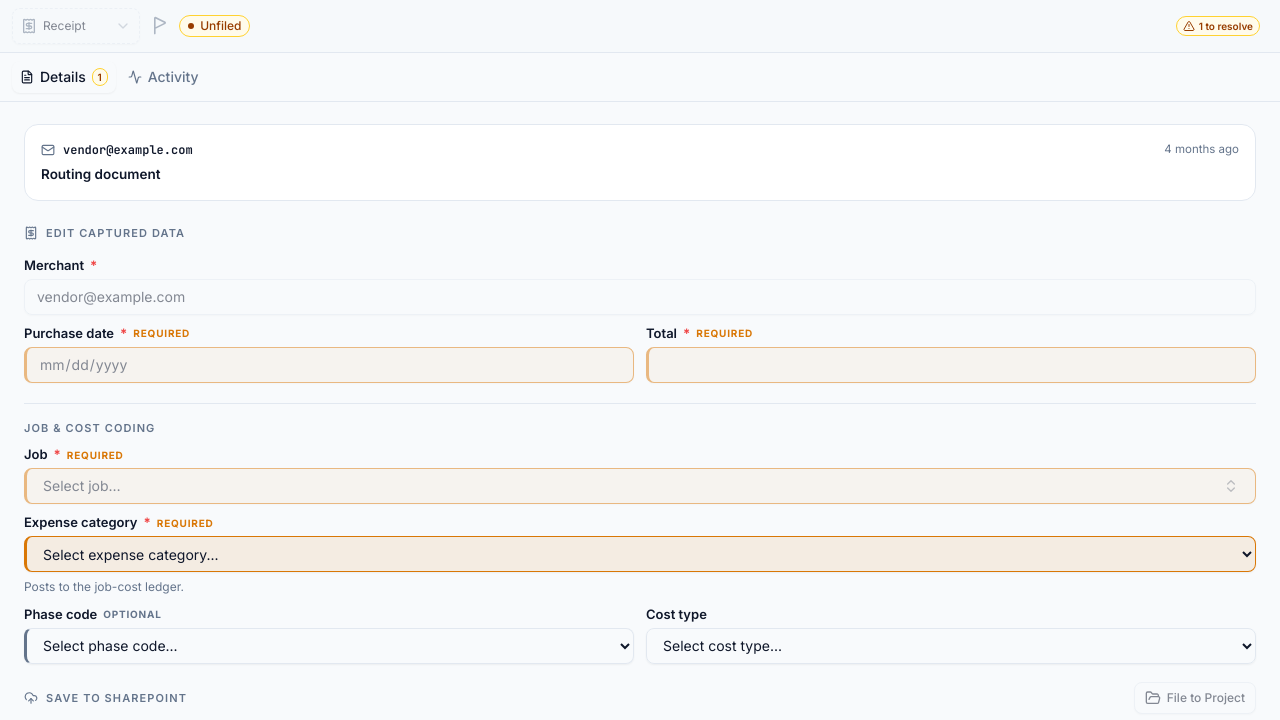
it: DocumentPanelRouteSurface › makes collaboration view-only for a approved document
The width and height of the screenshot is (1280, 720).
Click the tab "Activity" at (163, 77), box [120,61,207,93]
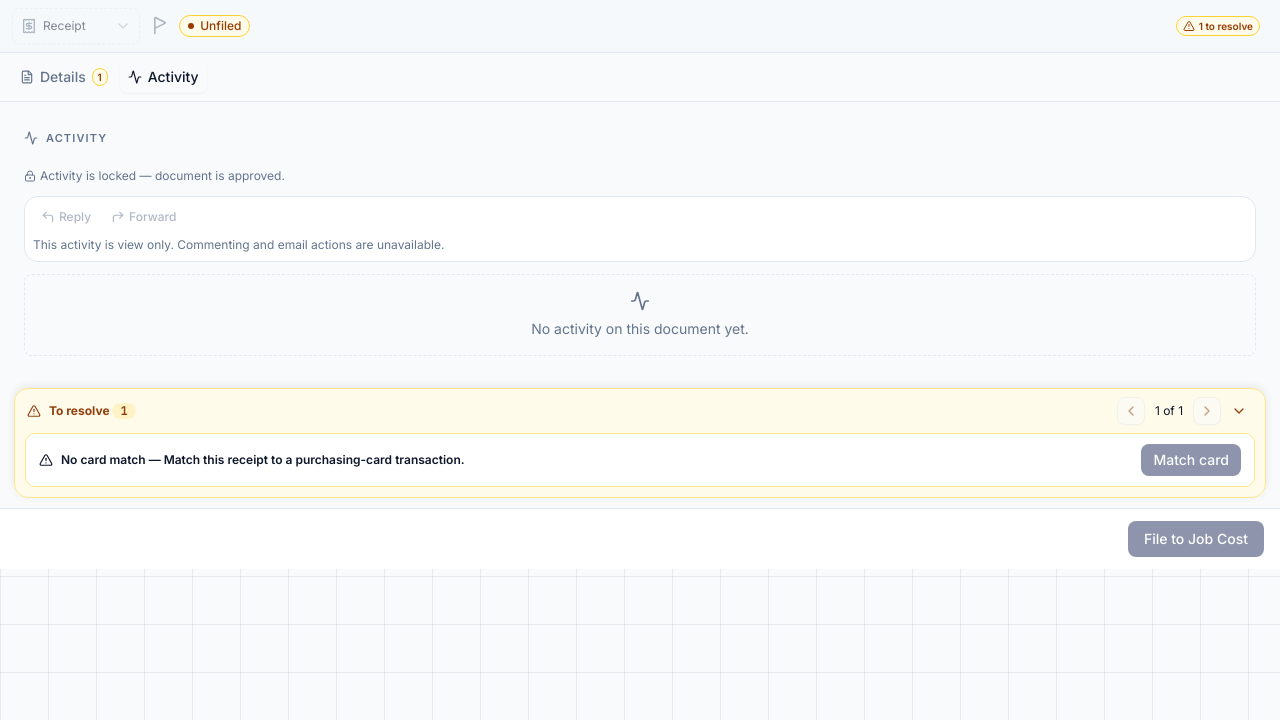
Check: the text "Activity is locked — document is approved." is shown, box [24,168,285,184]
